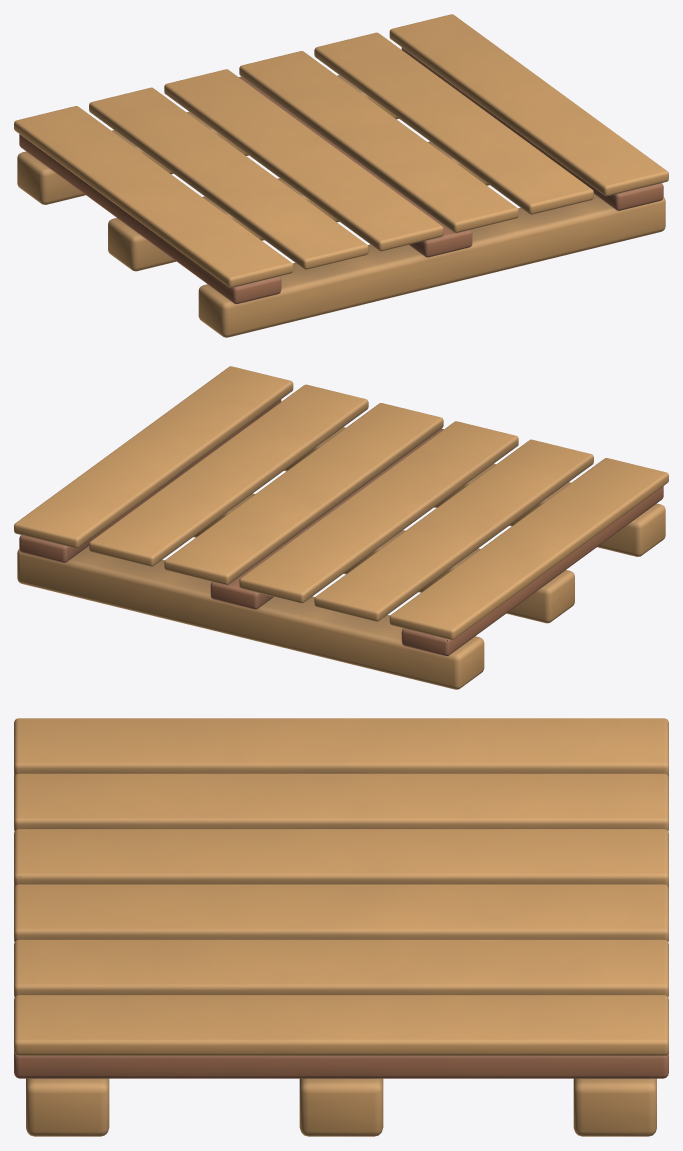
The model's file is Pallet.fbx.
The picture shows the model from 3 angles, top to bottom: view 1: azimuth 30°, elevation 25°; view 2: azimuth 150°, elevation 25°; view 3: azimuth 270°, elevation 25°; orthographic projection. The views are drawn at different scales.
Parts seen in each view (by area): view 1: Pallet; view 2: Pallet; view 3: Pallet.
Boxes of the visible parts, left/top/right/bottom form: Pallet: left=14, top=14, right=668, bottom=337; Pallet: left=14, top=366, right=668, bottom=689; Pallet: left=14, top=718, right=668, bottom=1136.
Size of the model in its own units: 130 by 18 by 110.
